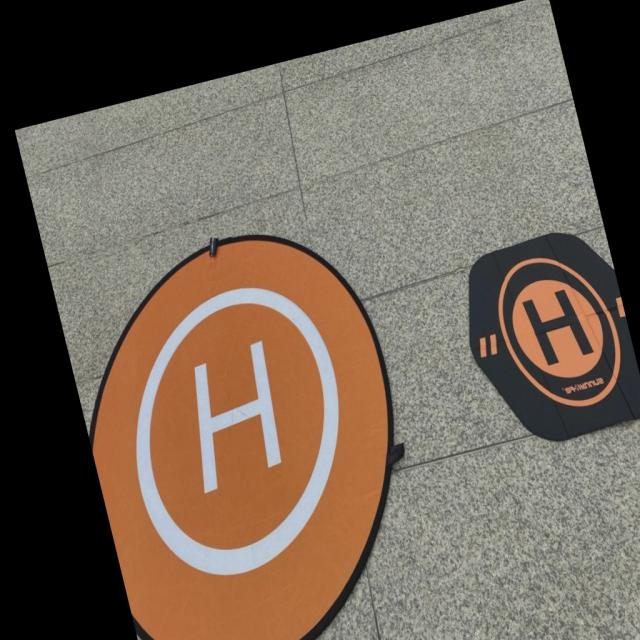helipad: (130, 281, 344, 582), (494, 252, 624, 411)
